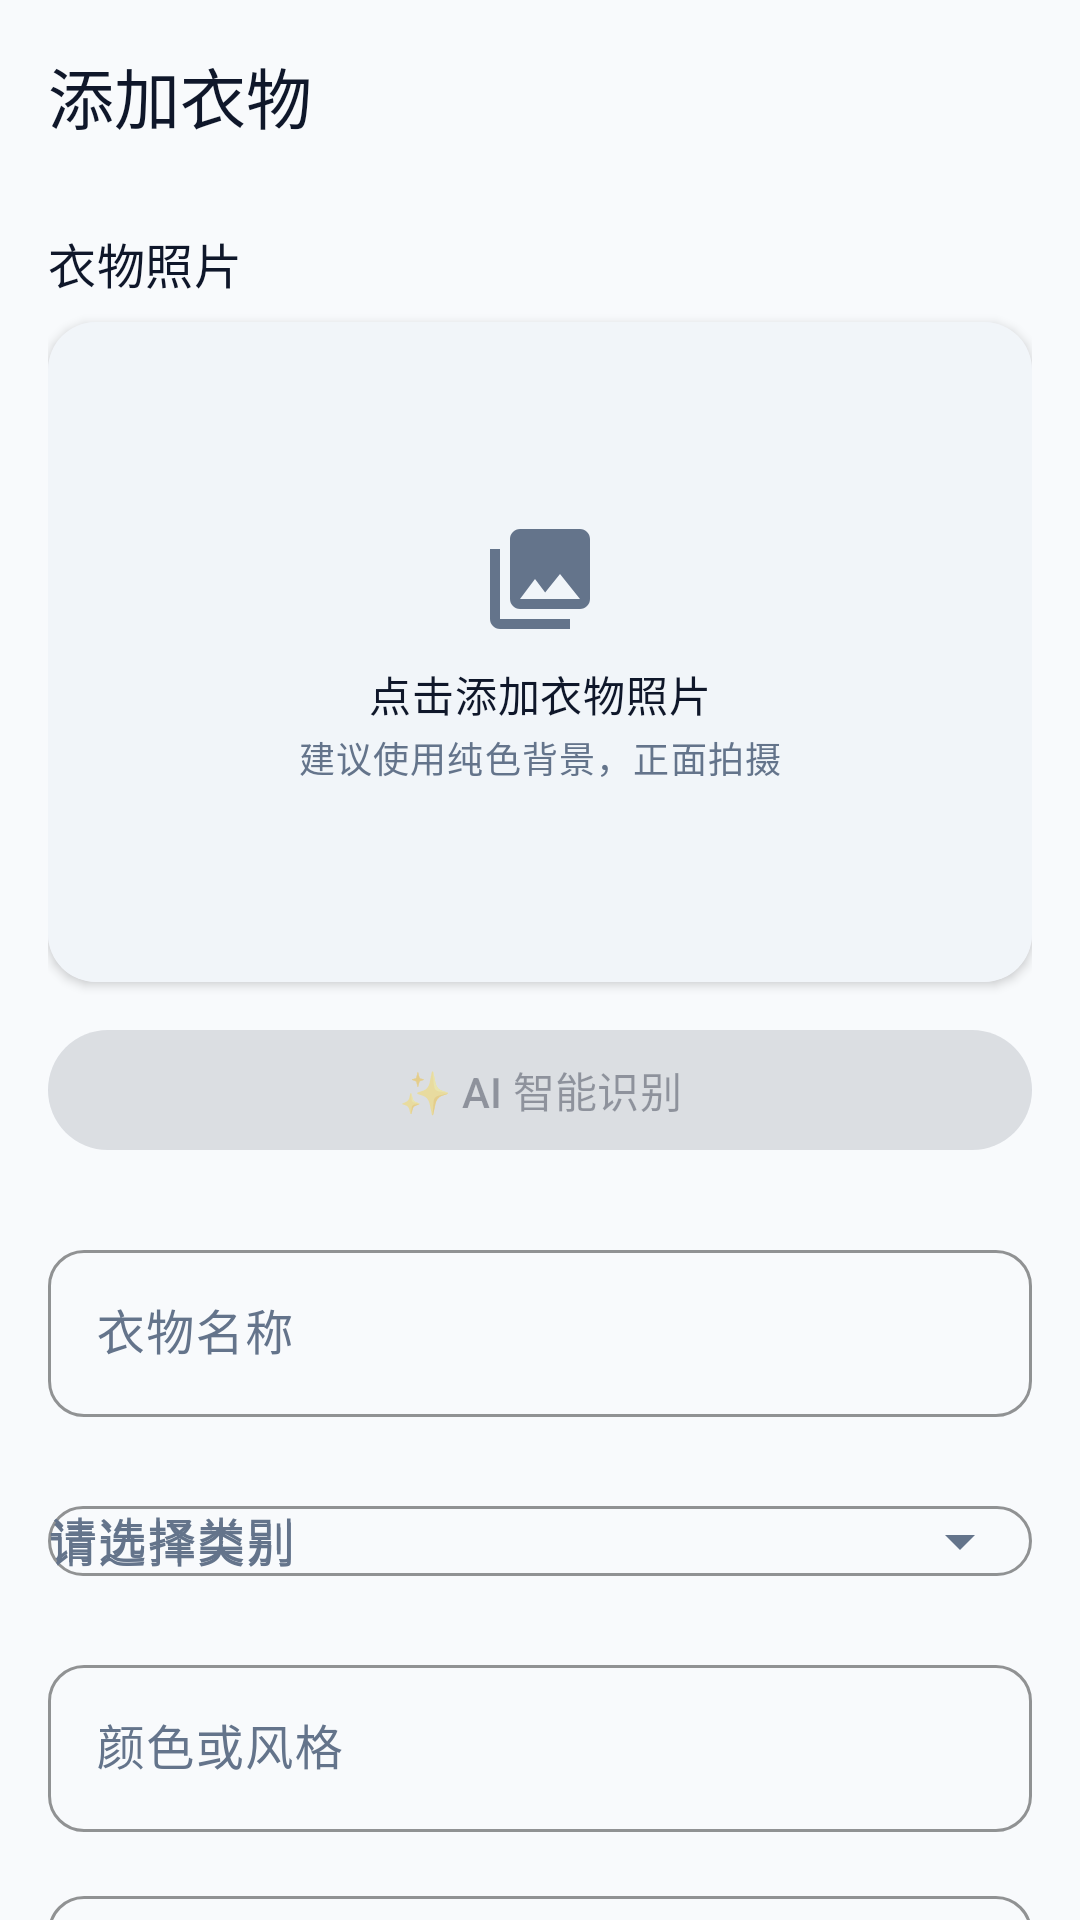

Screen size 1080px x 1920px. Icon name, then its box in pixels as bbox=(x1, y1, x2, y2):
衣物照片占位图: bbox=(490, 529, 590, 629)
